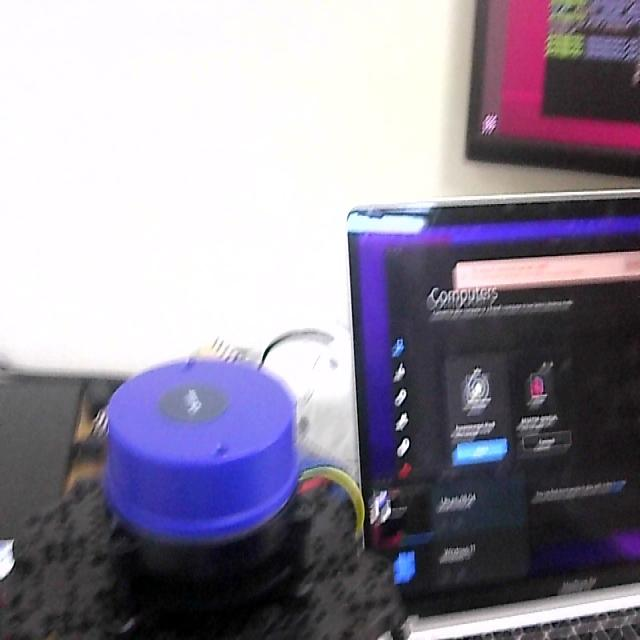turtle: (7, 352, 411, 640)
